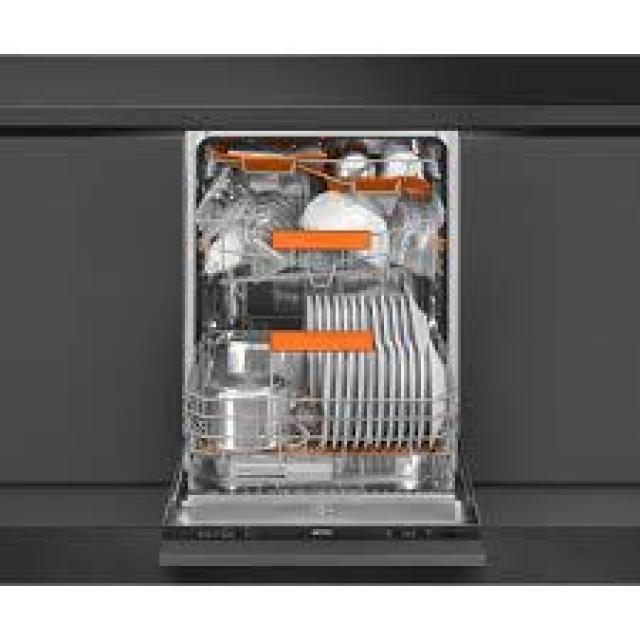dishwasher: (154, 128, 495, 572)
